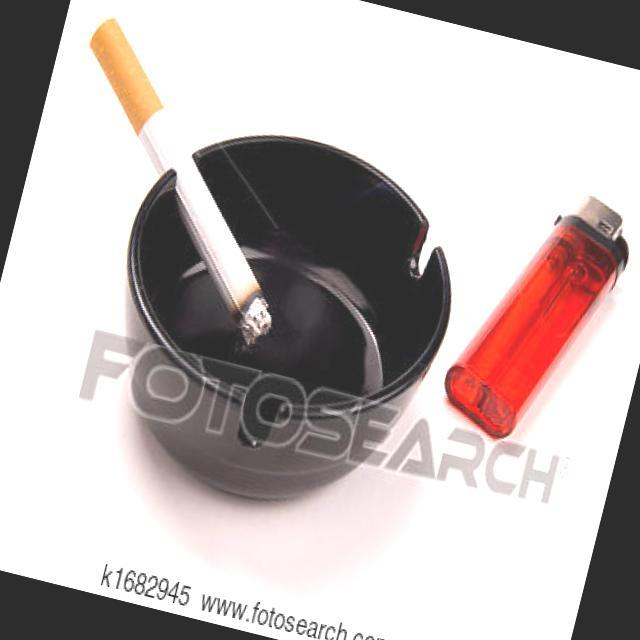cigarette: (24, 2, 339, 350)
